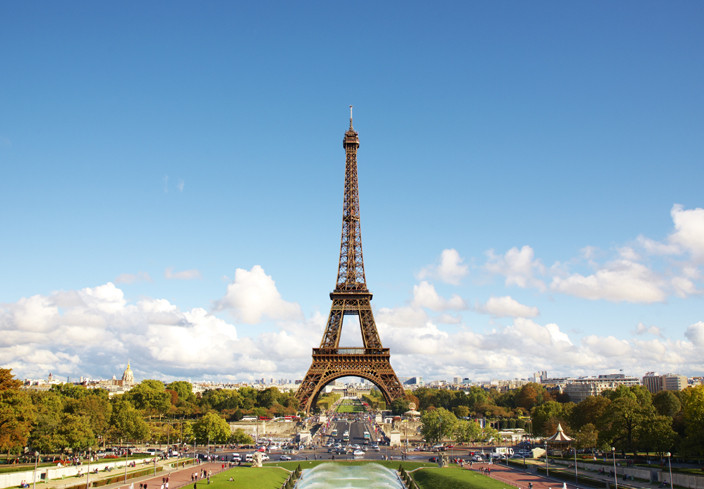eiffel tower: (290, 86, 411, 417)
